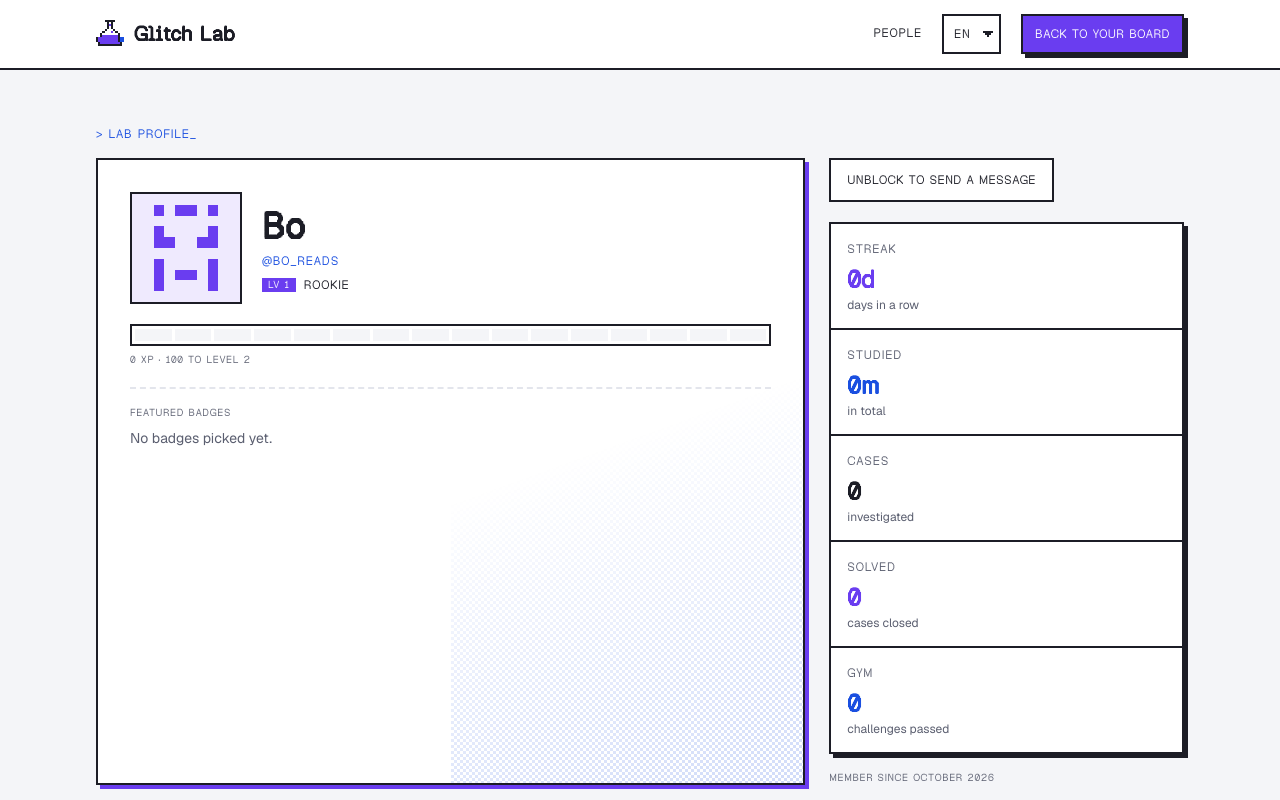
Test case: hides the button when messages are closed, and offers unblock to the blocker
Check: the heading "Bo" is shown, box [262,202,304,250]
Check: the button "Send message" is not shown
Step 1. Click the button "Unblock to send a message" → click(942, 180), box [829,158,1054,202]
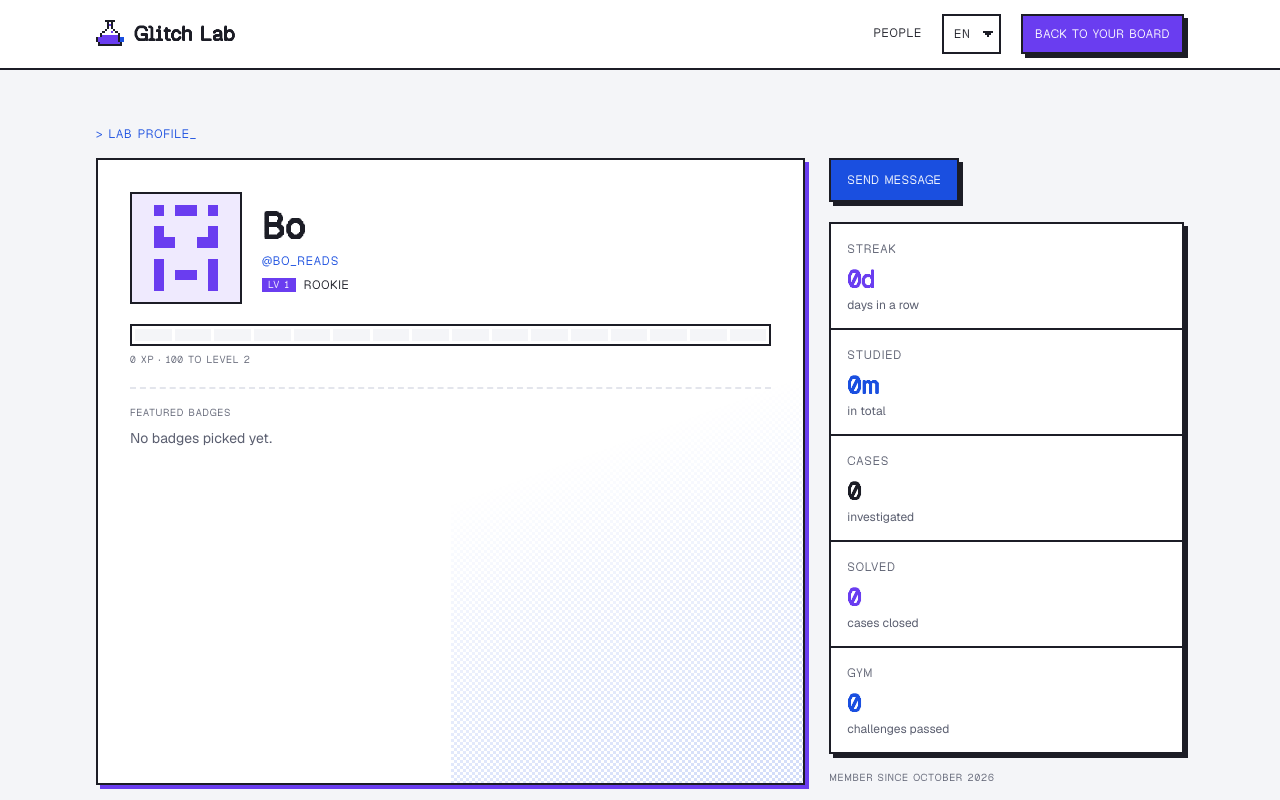
Check: the button "Send message" is shown, box [829,158,959,202]
